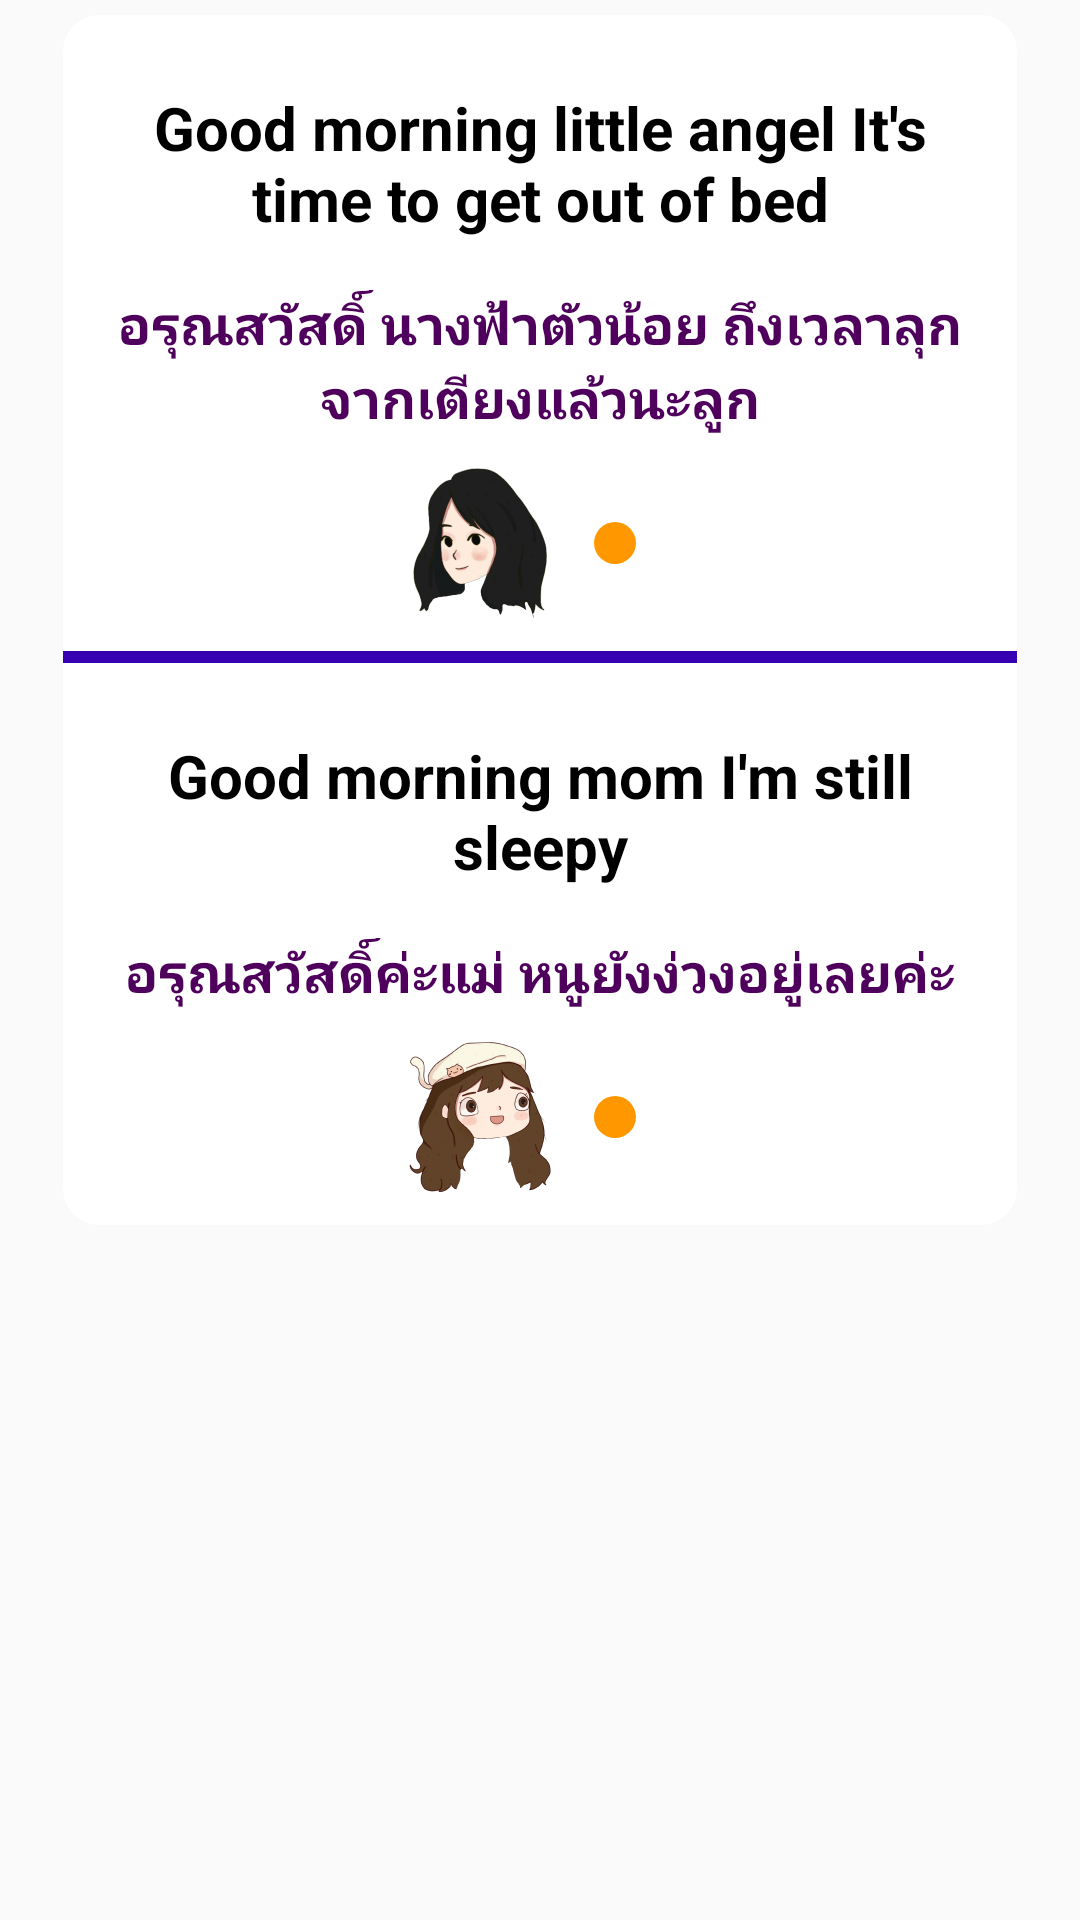

Icons on this 1080px x 1920px Android screen, each with its box as (x1,y1,x2,y2):
child: (409,1042,551,1192)
